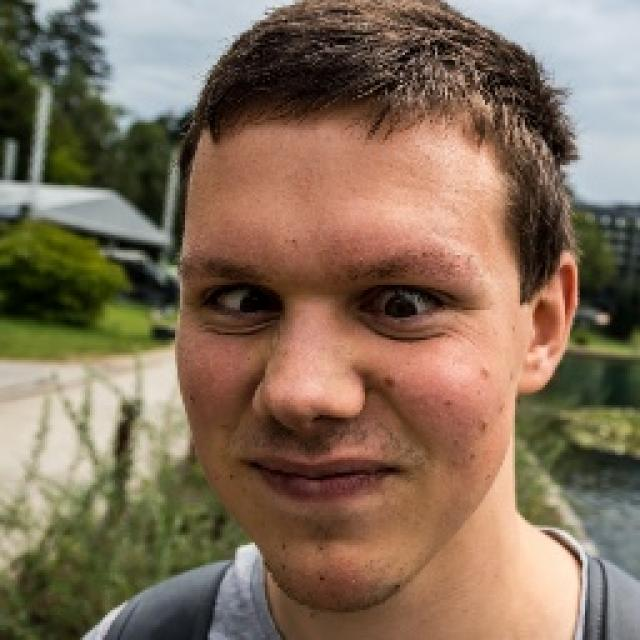earlobe: (516, 251, 578, 396)
